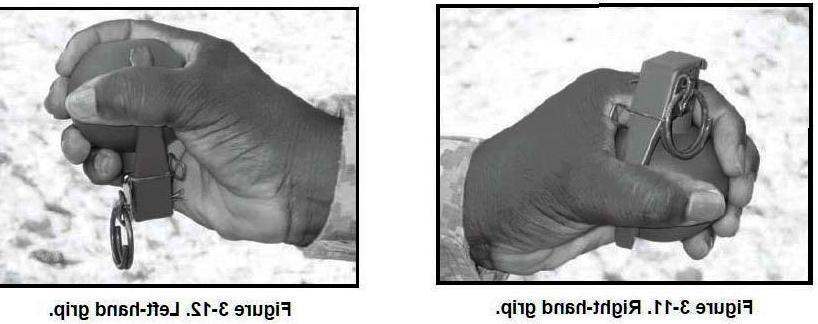Grenade: (67, 38, 189, 269), (610, 50, 730, 250)
